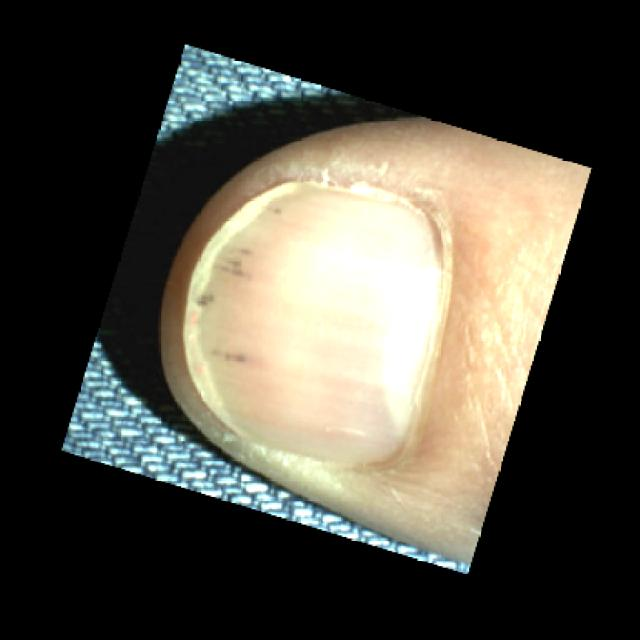Nail: (181, 185, 451, 464)
